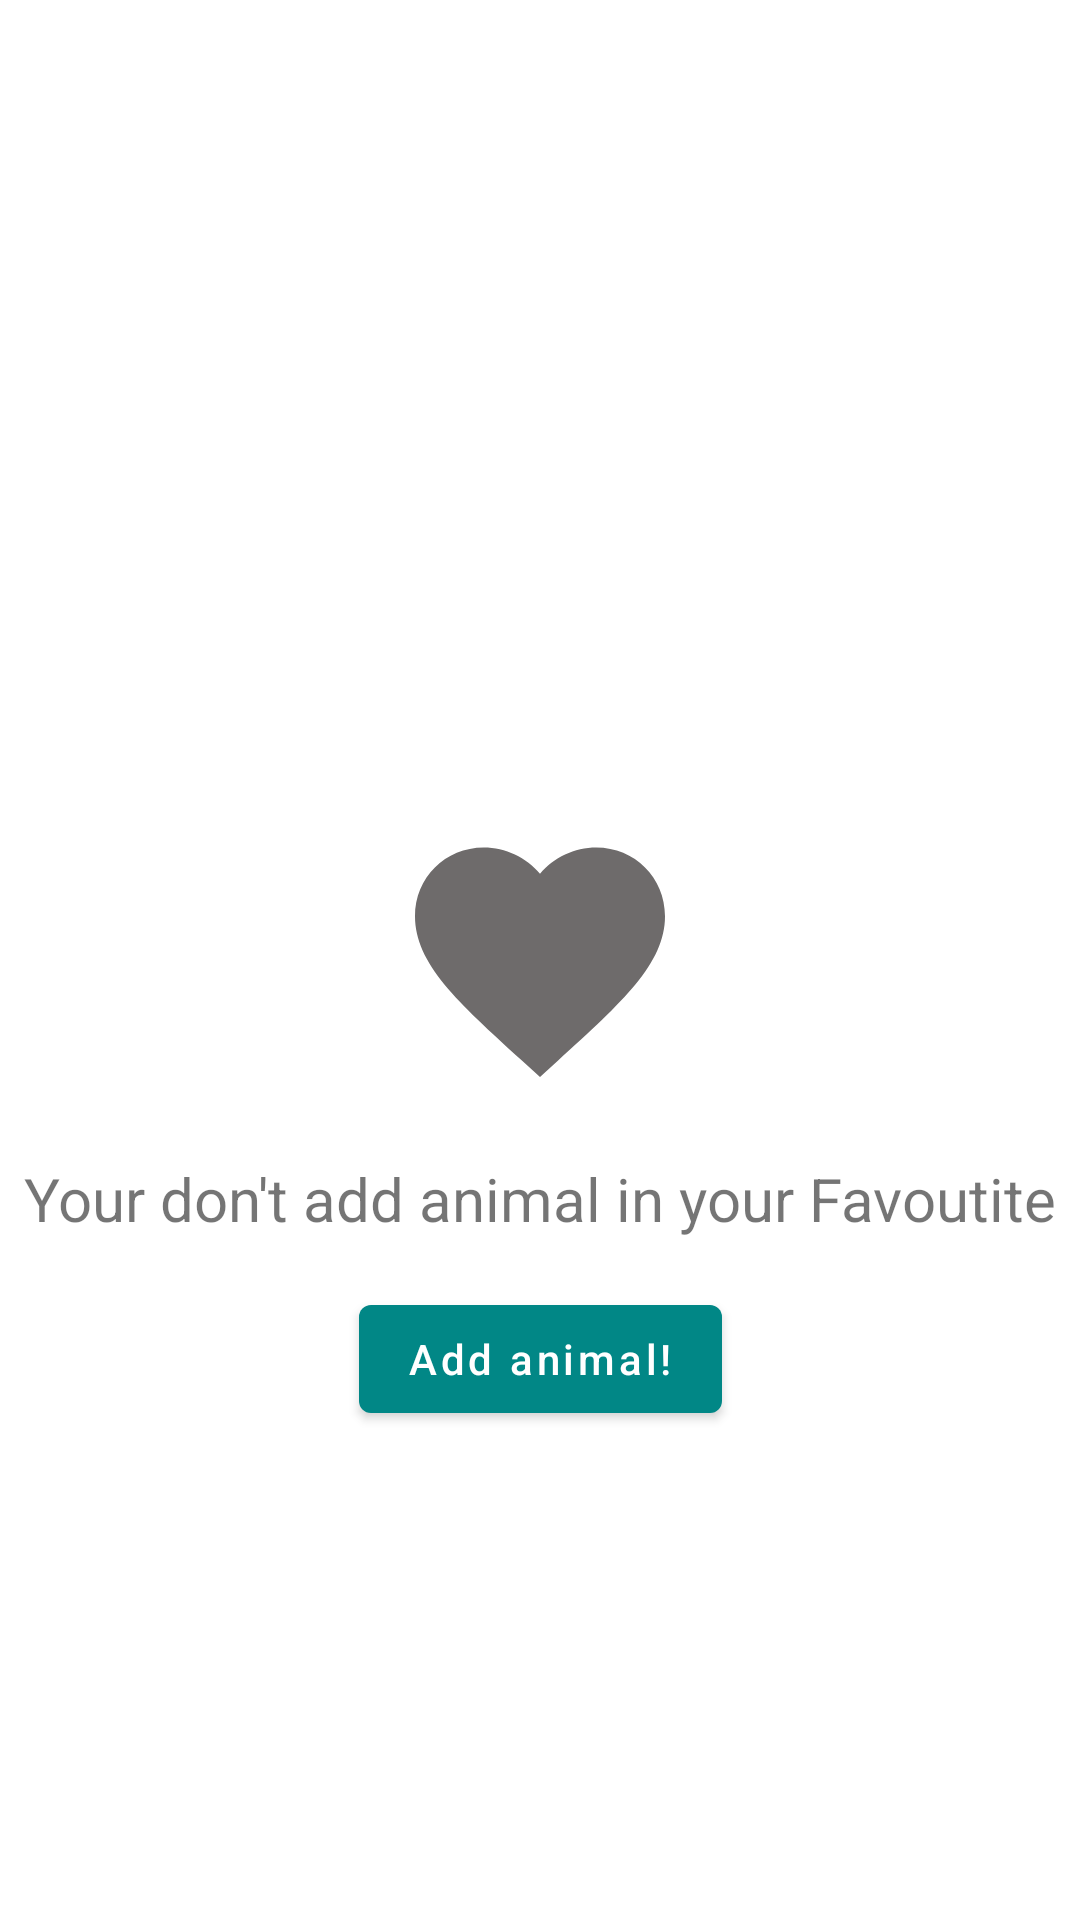

Where icons sit on this 1080px×1920px app screen, as (x1, y1, x2, y2):
greey like: (415, 847, 665, 1077)
